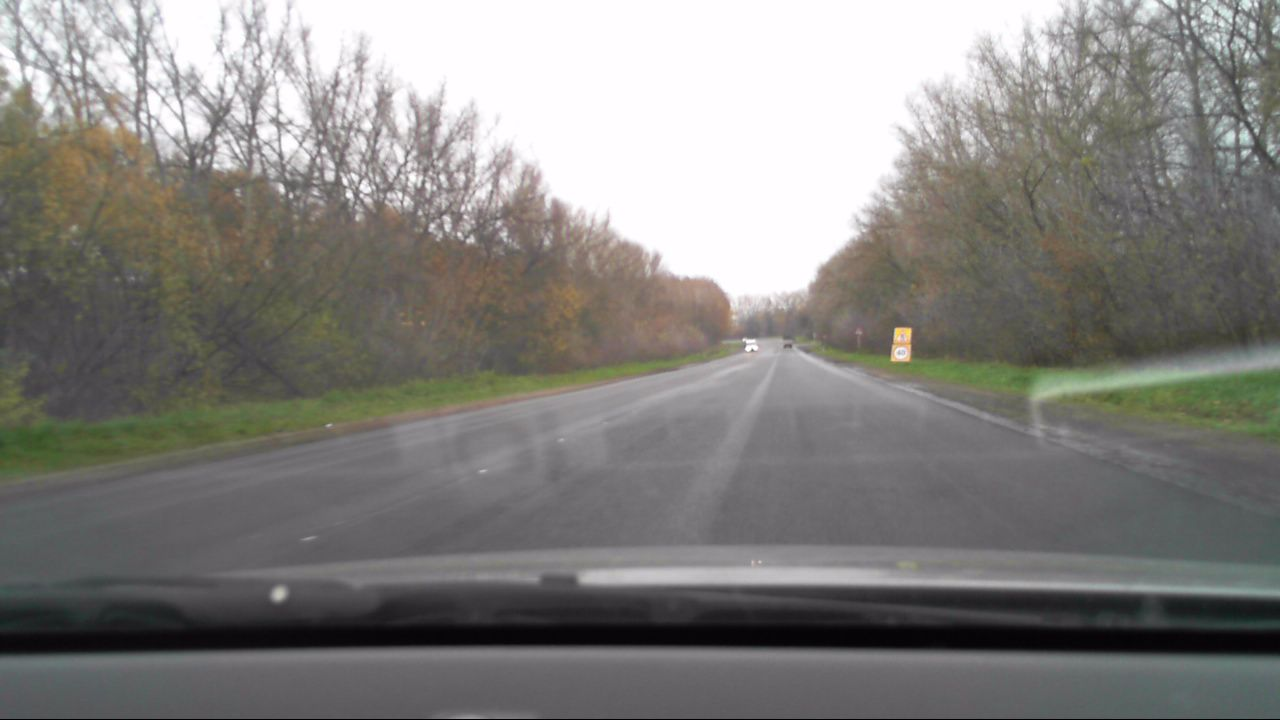speed_warning_40: (891, 345, 910, 361)
